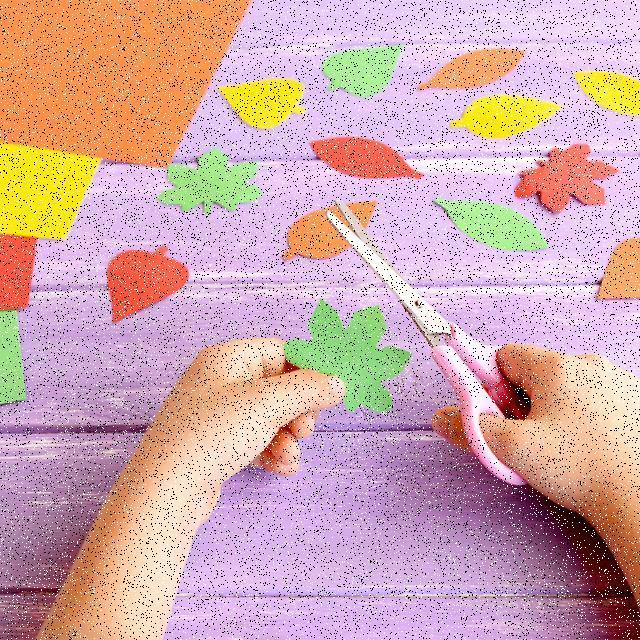scissors: (318, 193, 568, 494)
